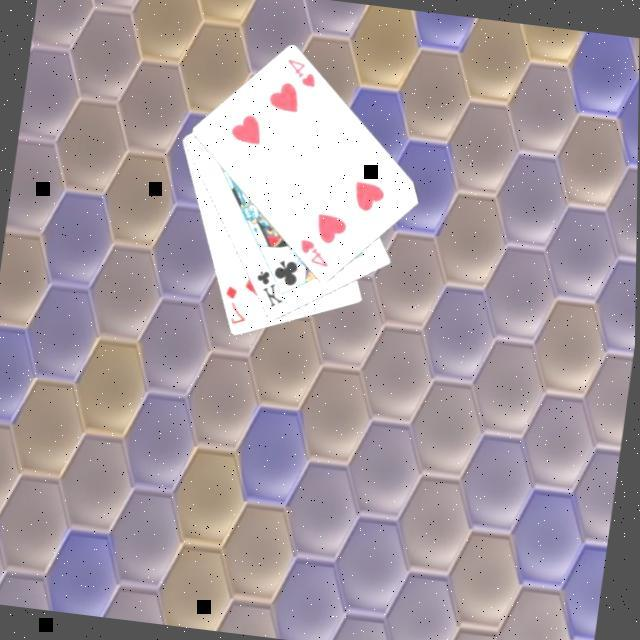4H: (282, 56, 322, 92), (296, 237, 336, 272)
7D: (220, 283, 255, 330)
KC: (251, 260, 294, 313)
